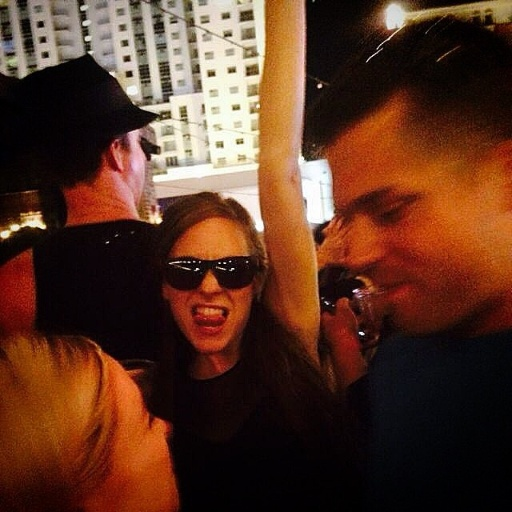hand: (321, 297, 360, 348), (315, 216, 355, 264)
